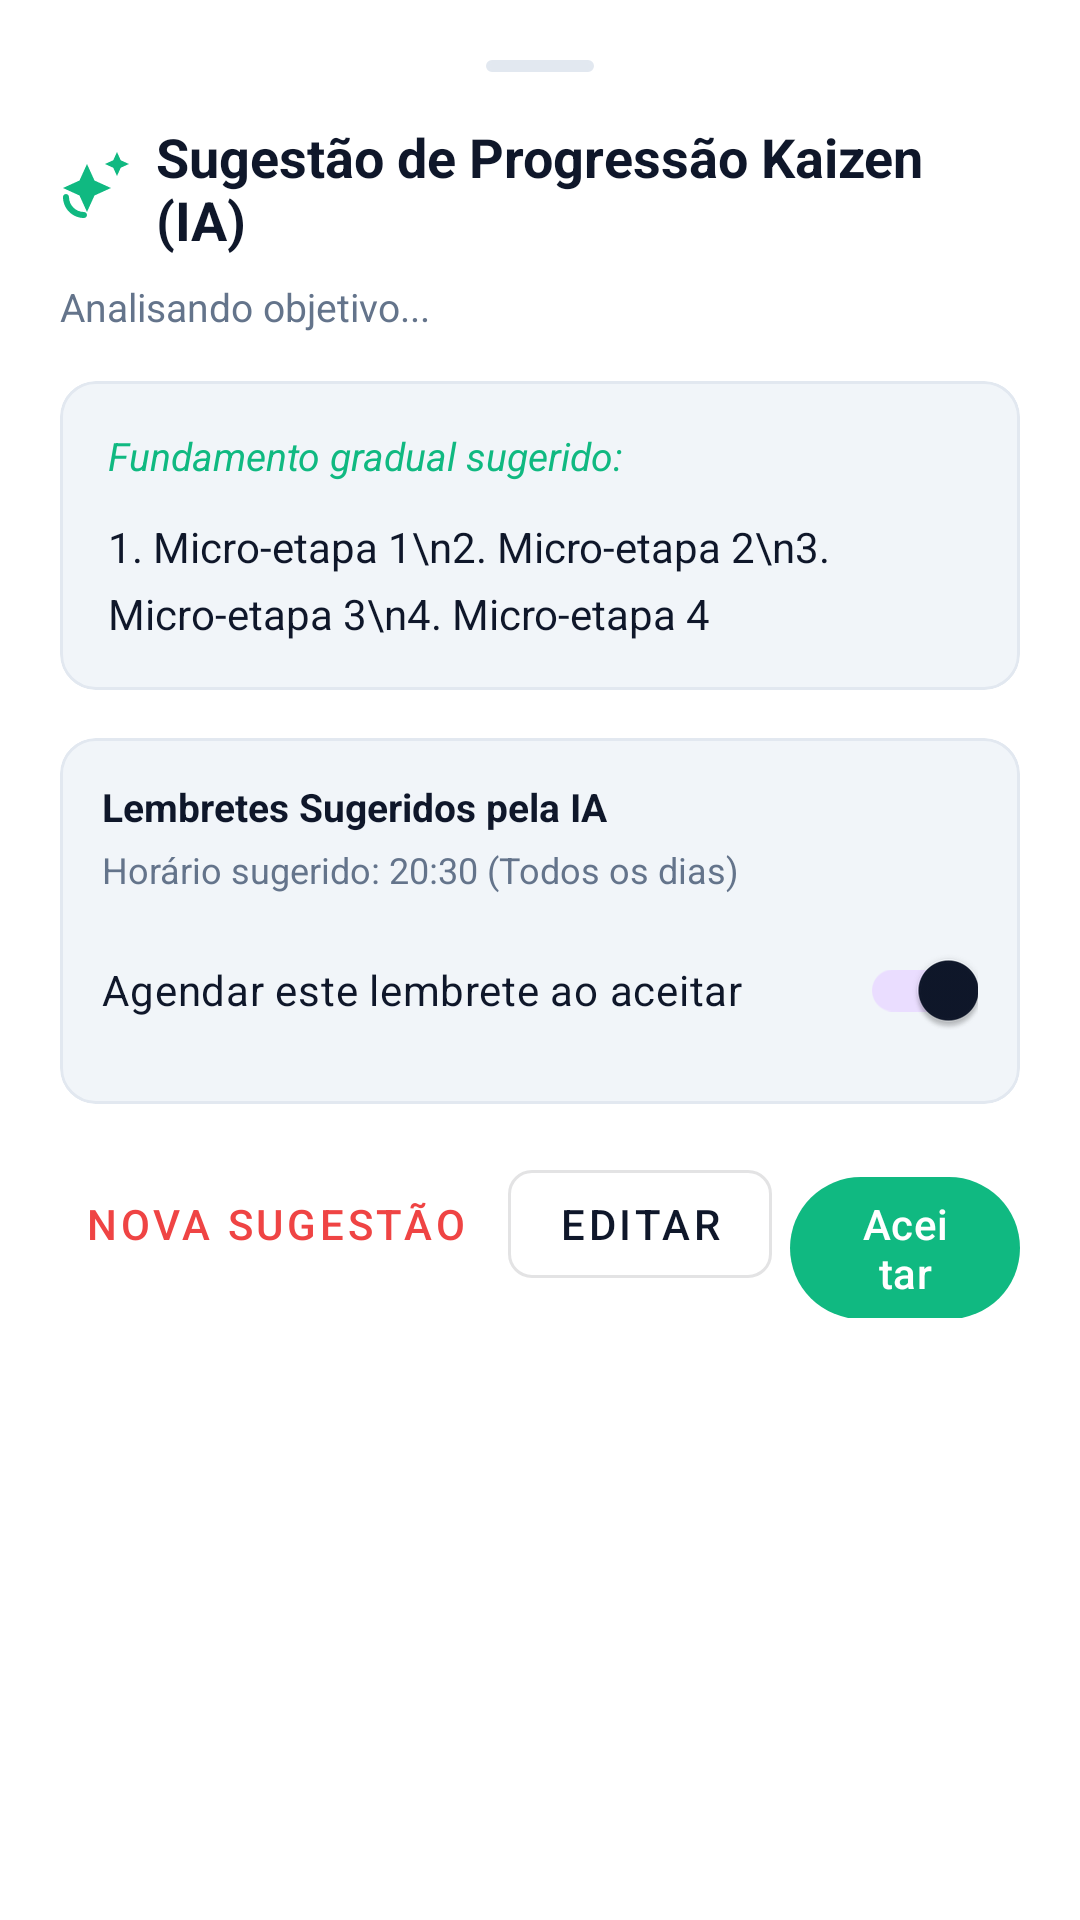

Named icons in this screenshot (1080px x 1920px) and their bounding boxes, (x1=x1, y1=y1, x2=x2, y2=y2):
sparkles: (x1=63, y1=152, x2=129, y2=218)
